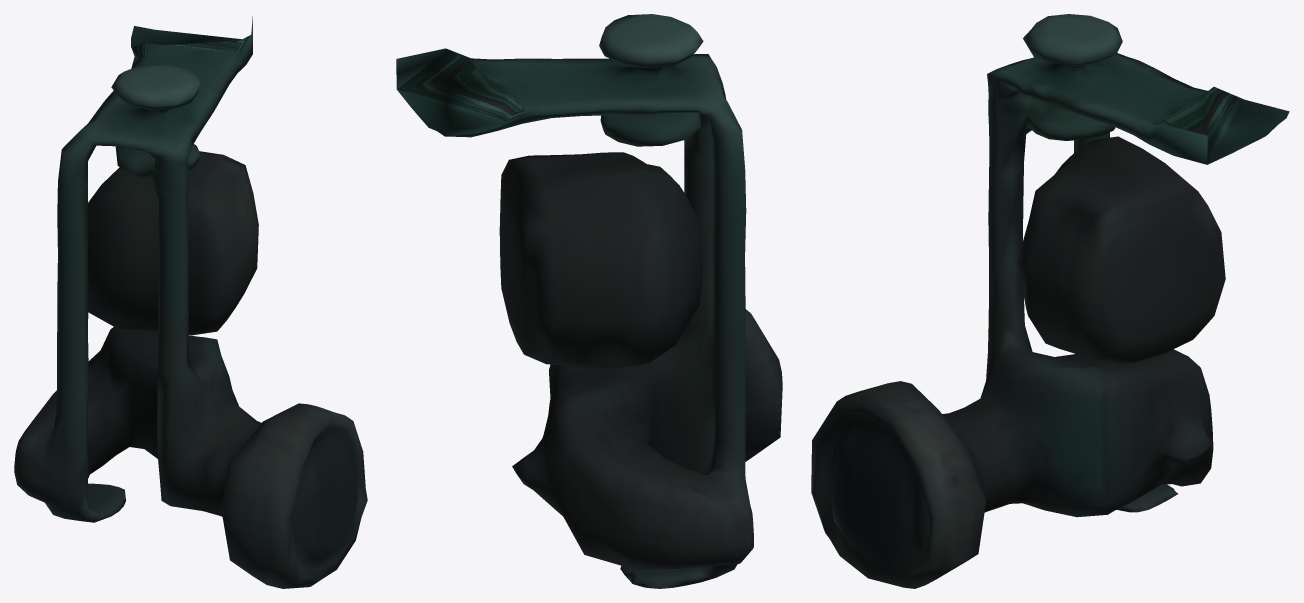
The model's file is 02_crane_camera.glb.
The picture shows the model from 3 angles, left to right: view 1: azimuth 30°, elevation 25°; view 2: azimuth 150°, elevation 25°; view 3: azimuth 270°, elevation 25°; orthographic projection. The views are drawn at different scales.
Parts seen in each view (by area): view 1: 02_crane_camera; view 2: 02_crane_camera; view 3: 02_crane_camera.
Part boxes in pixels (x1,y1,x2,y2): 02_crane_camera: (14,16,367,588); 02_crane_camera: (396,14,782,588); 02_crane_camera: (811,14,1289,588).
Bounding box in the file's own units: 0.3438 × 0.55 × 0.4727.
Materials: 1 (1 with a texture image).
